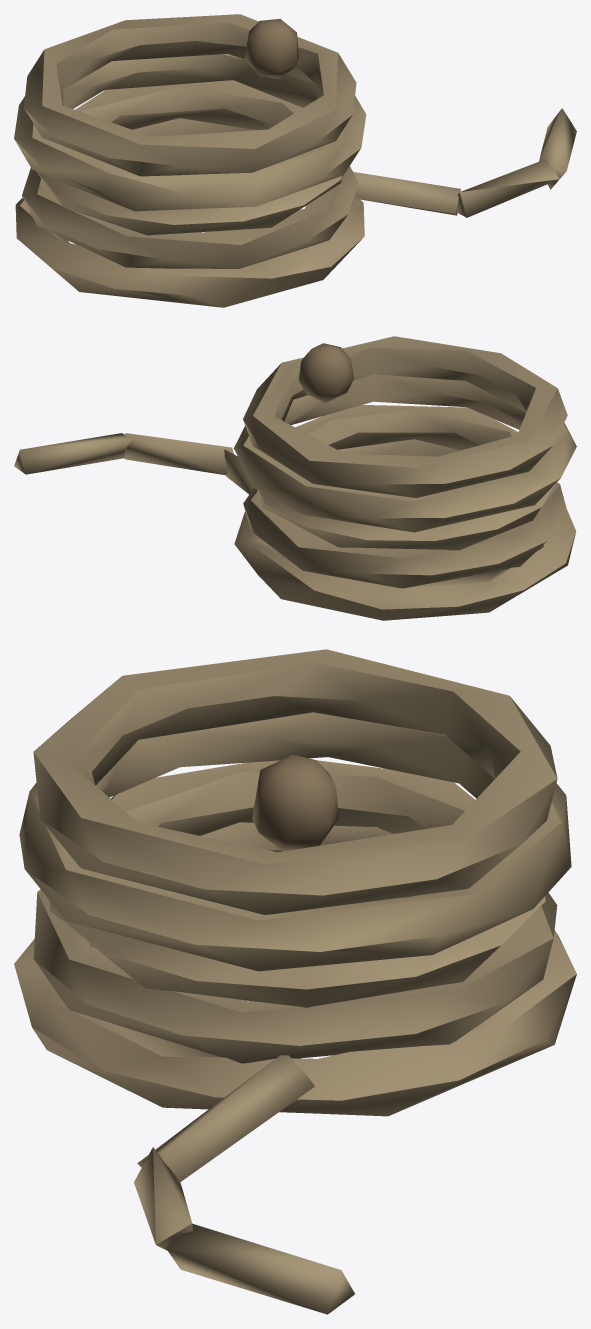
File: rope_coil_a_lod1.glb
The picture shows the model from 3 angles, top to bottom: view 1: azimuth 30°, elevation 25°; view 2: azimuth 150°, elevation 25°; view 3: azimuth 270°, elevation 25°; orthographic projection. The views are drawn at different scales.
Parts seen in each view (by area): view 1: Surface.001; view 2: Surface.001; view 3: Surface.001.
Part boxes in pixels (x1,y1,x2,y2): Surface.001: [14, 14, 576, 307]; Surface.001: [14, 336, 576, 620]; Surface.001: [14, 649, 576, 1314].
Bounding box in the file's own units: 2.21 × 0.7677 × 1.23.
